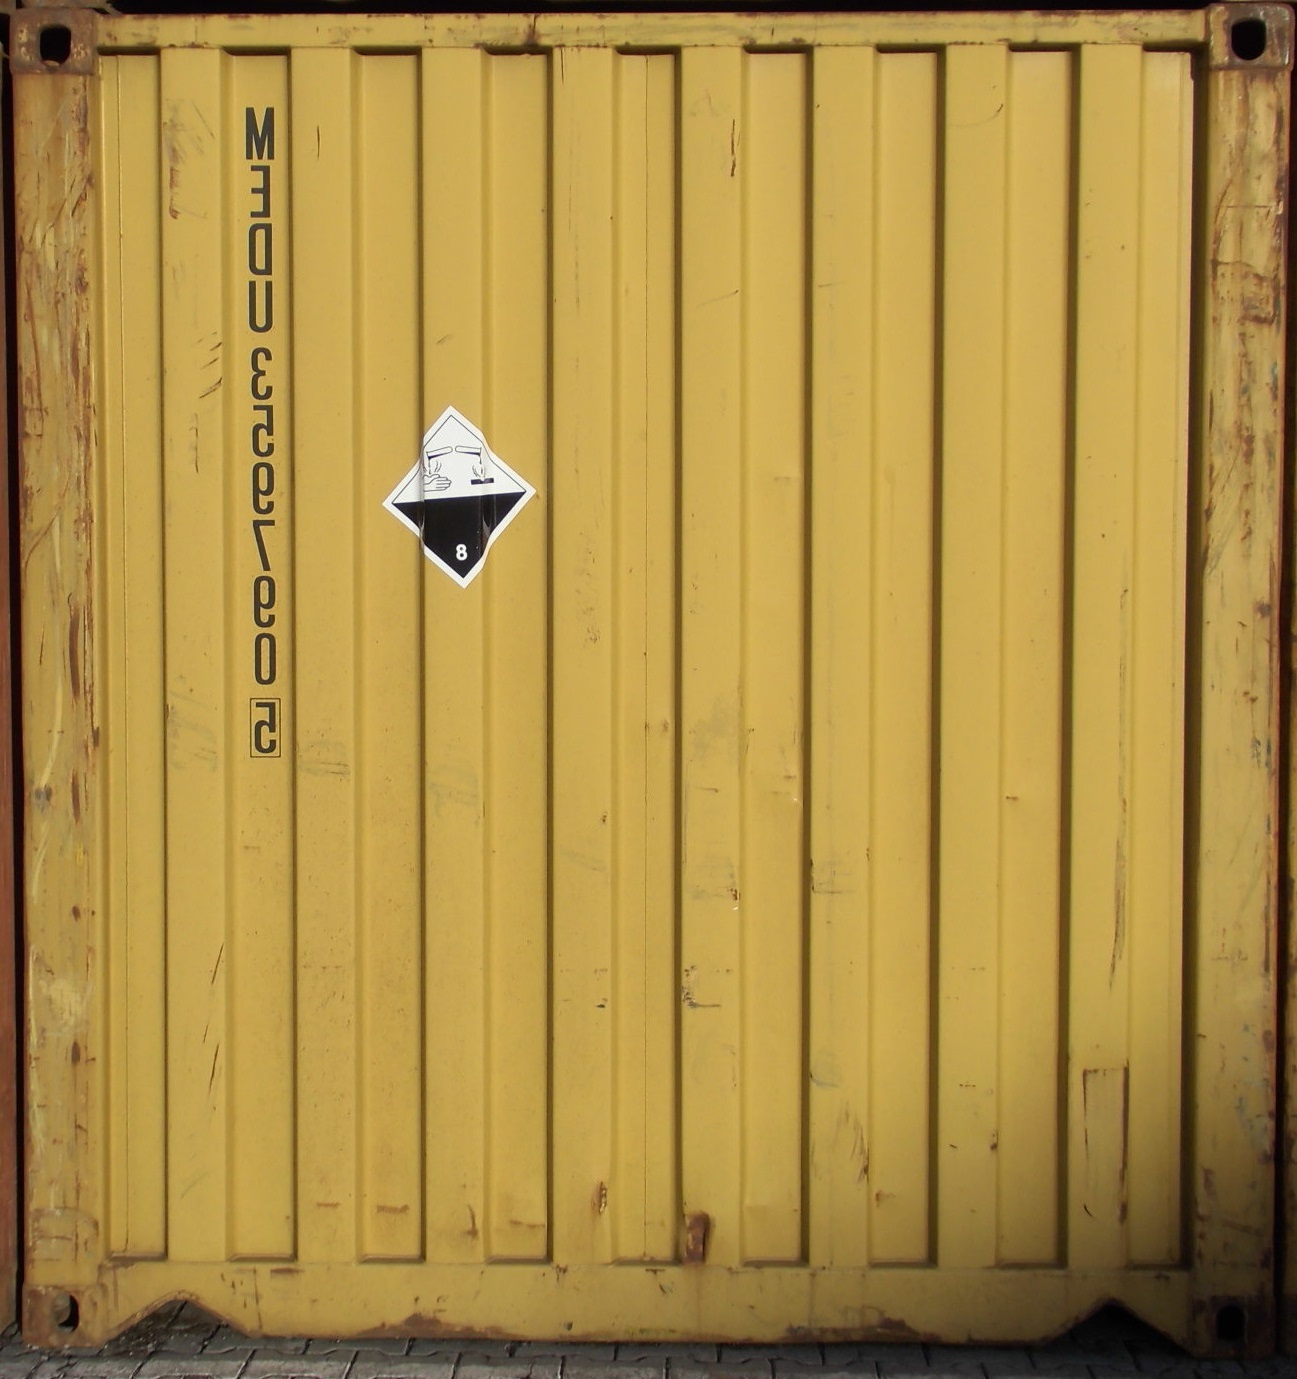container_no_door: (30, 7, 1254, 1349)
